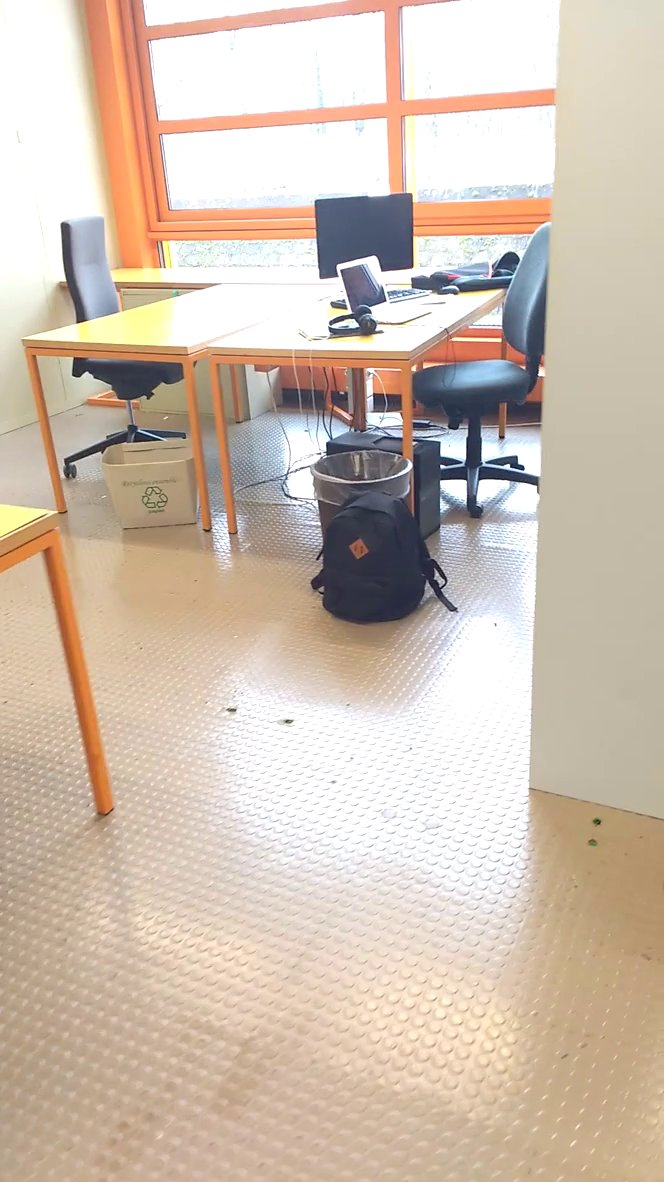bag: (299, 484, 465, 629)
bin: (310, 441, 426, 525)
box: (93, 440, 210, 529)
chair: (409, 209, 559, 529), (44, 195, 202, 490)
laptop: (330, 251, 441, 328)
